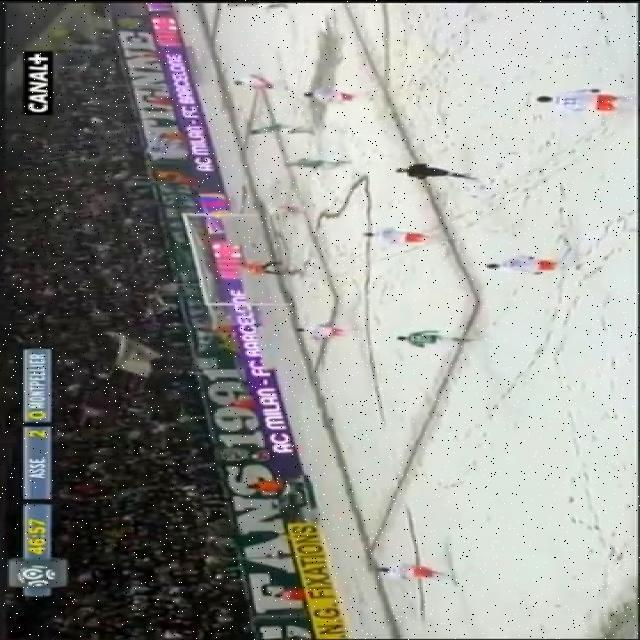goalkeeper: (240, 256, 297, 275)
player: (524, 84, 627, 118), (357, 557, 458, 588), (390, 327, 478, 355), (350, 221, 444, 247), (479, 253, 573, 278), (240, 115, 324, 141), (283, 151, 352, 174), (293, 84, 365, 104), (289, 319, 343, 342), (228, 74, 296, 92), (254, 198, 302, 220), (214, 0, 294, 13)
referee: (382, 159, 476, 181)
